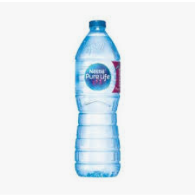Bottle: (75, 18, 122, 178)
